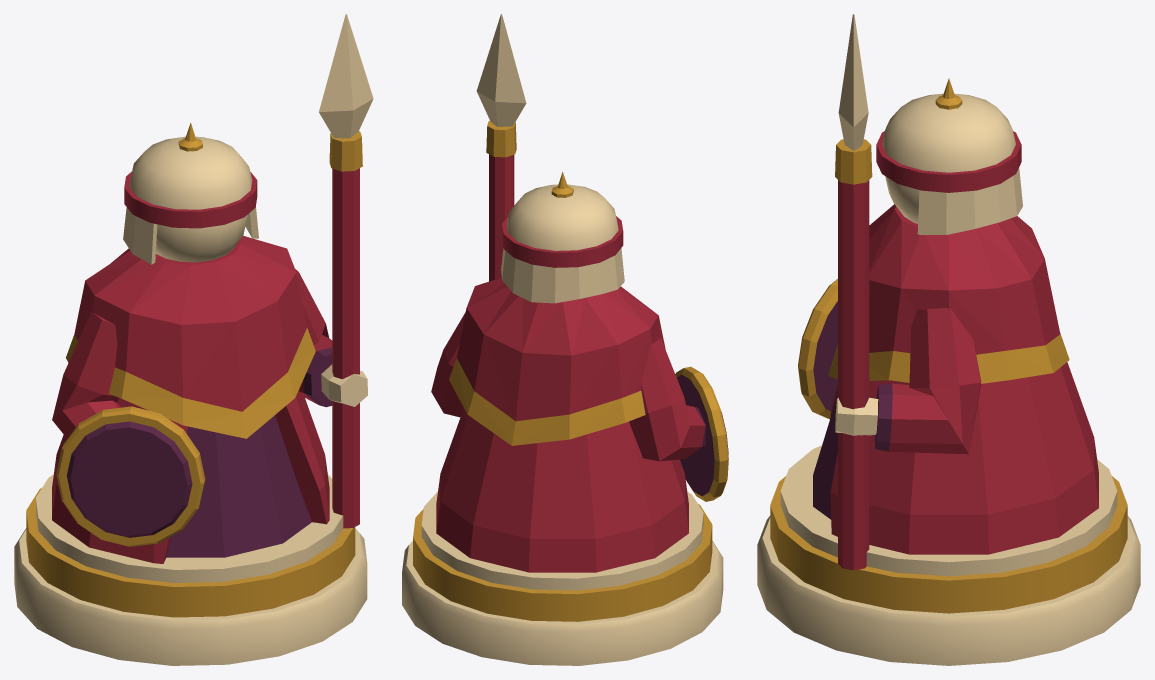
The model's file is spearman.glb.
3 renders of one model, left to right at view 1: azimuth 30°, elevation 25°; view 2: azimuth 150°, elevation 25°; view 3: azimuth 270°, elevation 25°, orthographic. The views are drawn at different scales.
Parts seen in each view (by area): view 1: spearman; view 2: spearman; view 3: spearman.
Boxes of the visible parts, box(x1,y1,x2,y2) form: spearman: box(14, 14, 373, 665); spearman: box(402, 14, 728, 665); spearman: box(757, 14, 1140, 665).
Bounding box in the file's own units: 0.7497 × 1.34 × 0.74.
